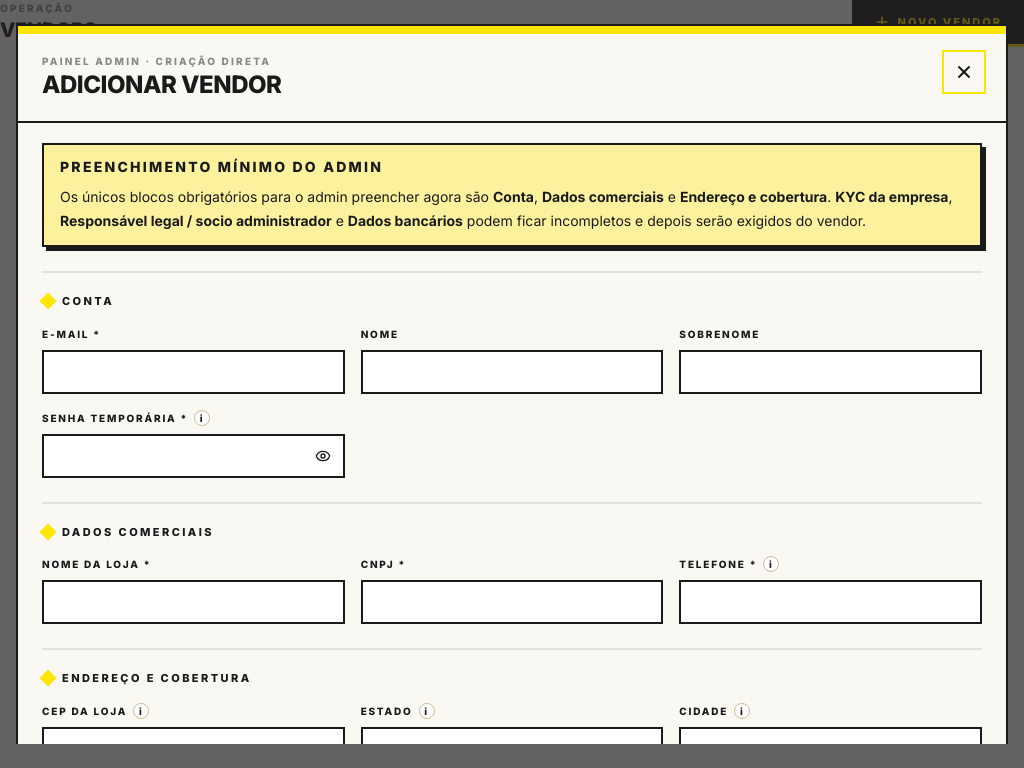
Scenario: VendorCreateLauncher — dígitos verificadores do documento › aceita CNPJ com dígito verificador correto
Type "65326368000190" into the field labelled "CNPJ *" at (512, 602), box [361,580,663,624]
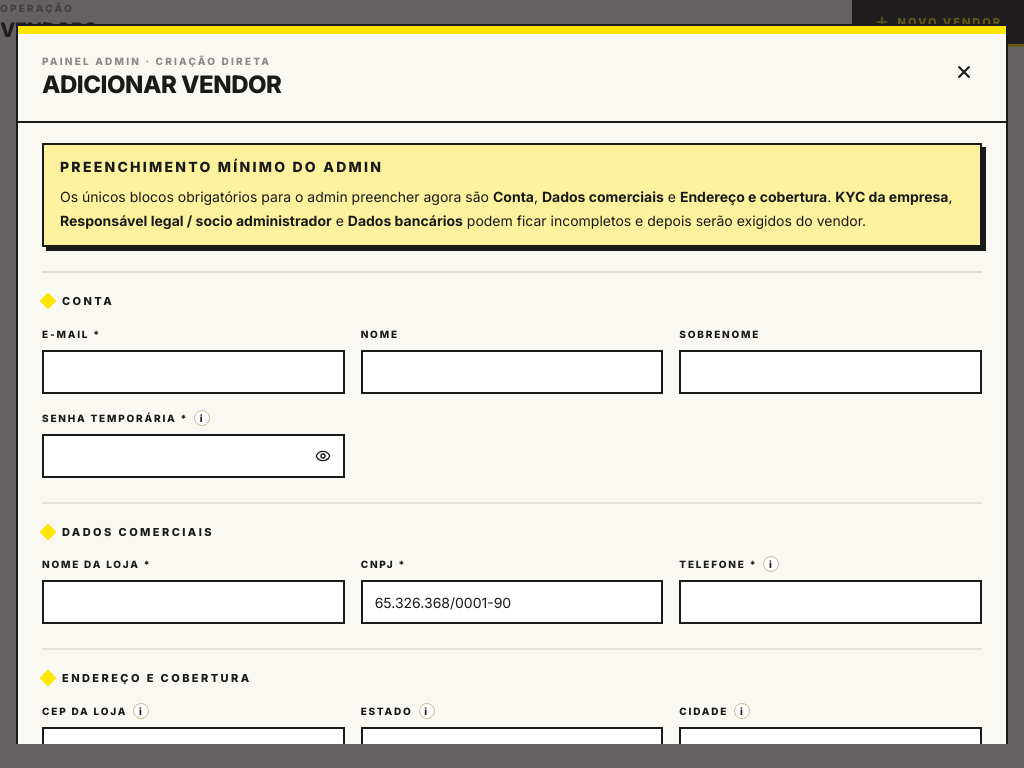
Expected: the field labelled "CNPJ *" holds "65.326.368/0001-90", [361,580,663,624]
